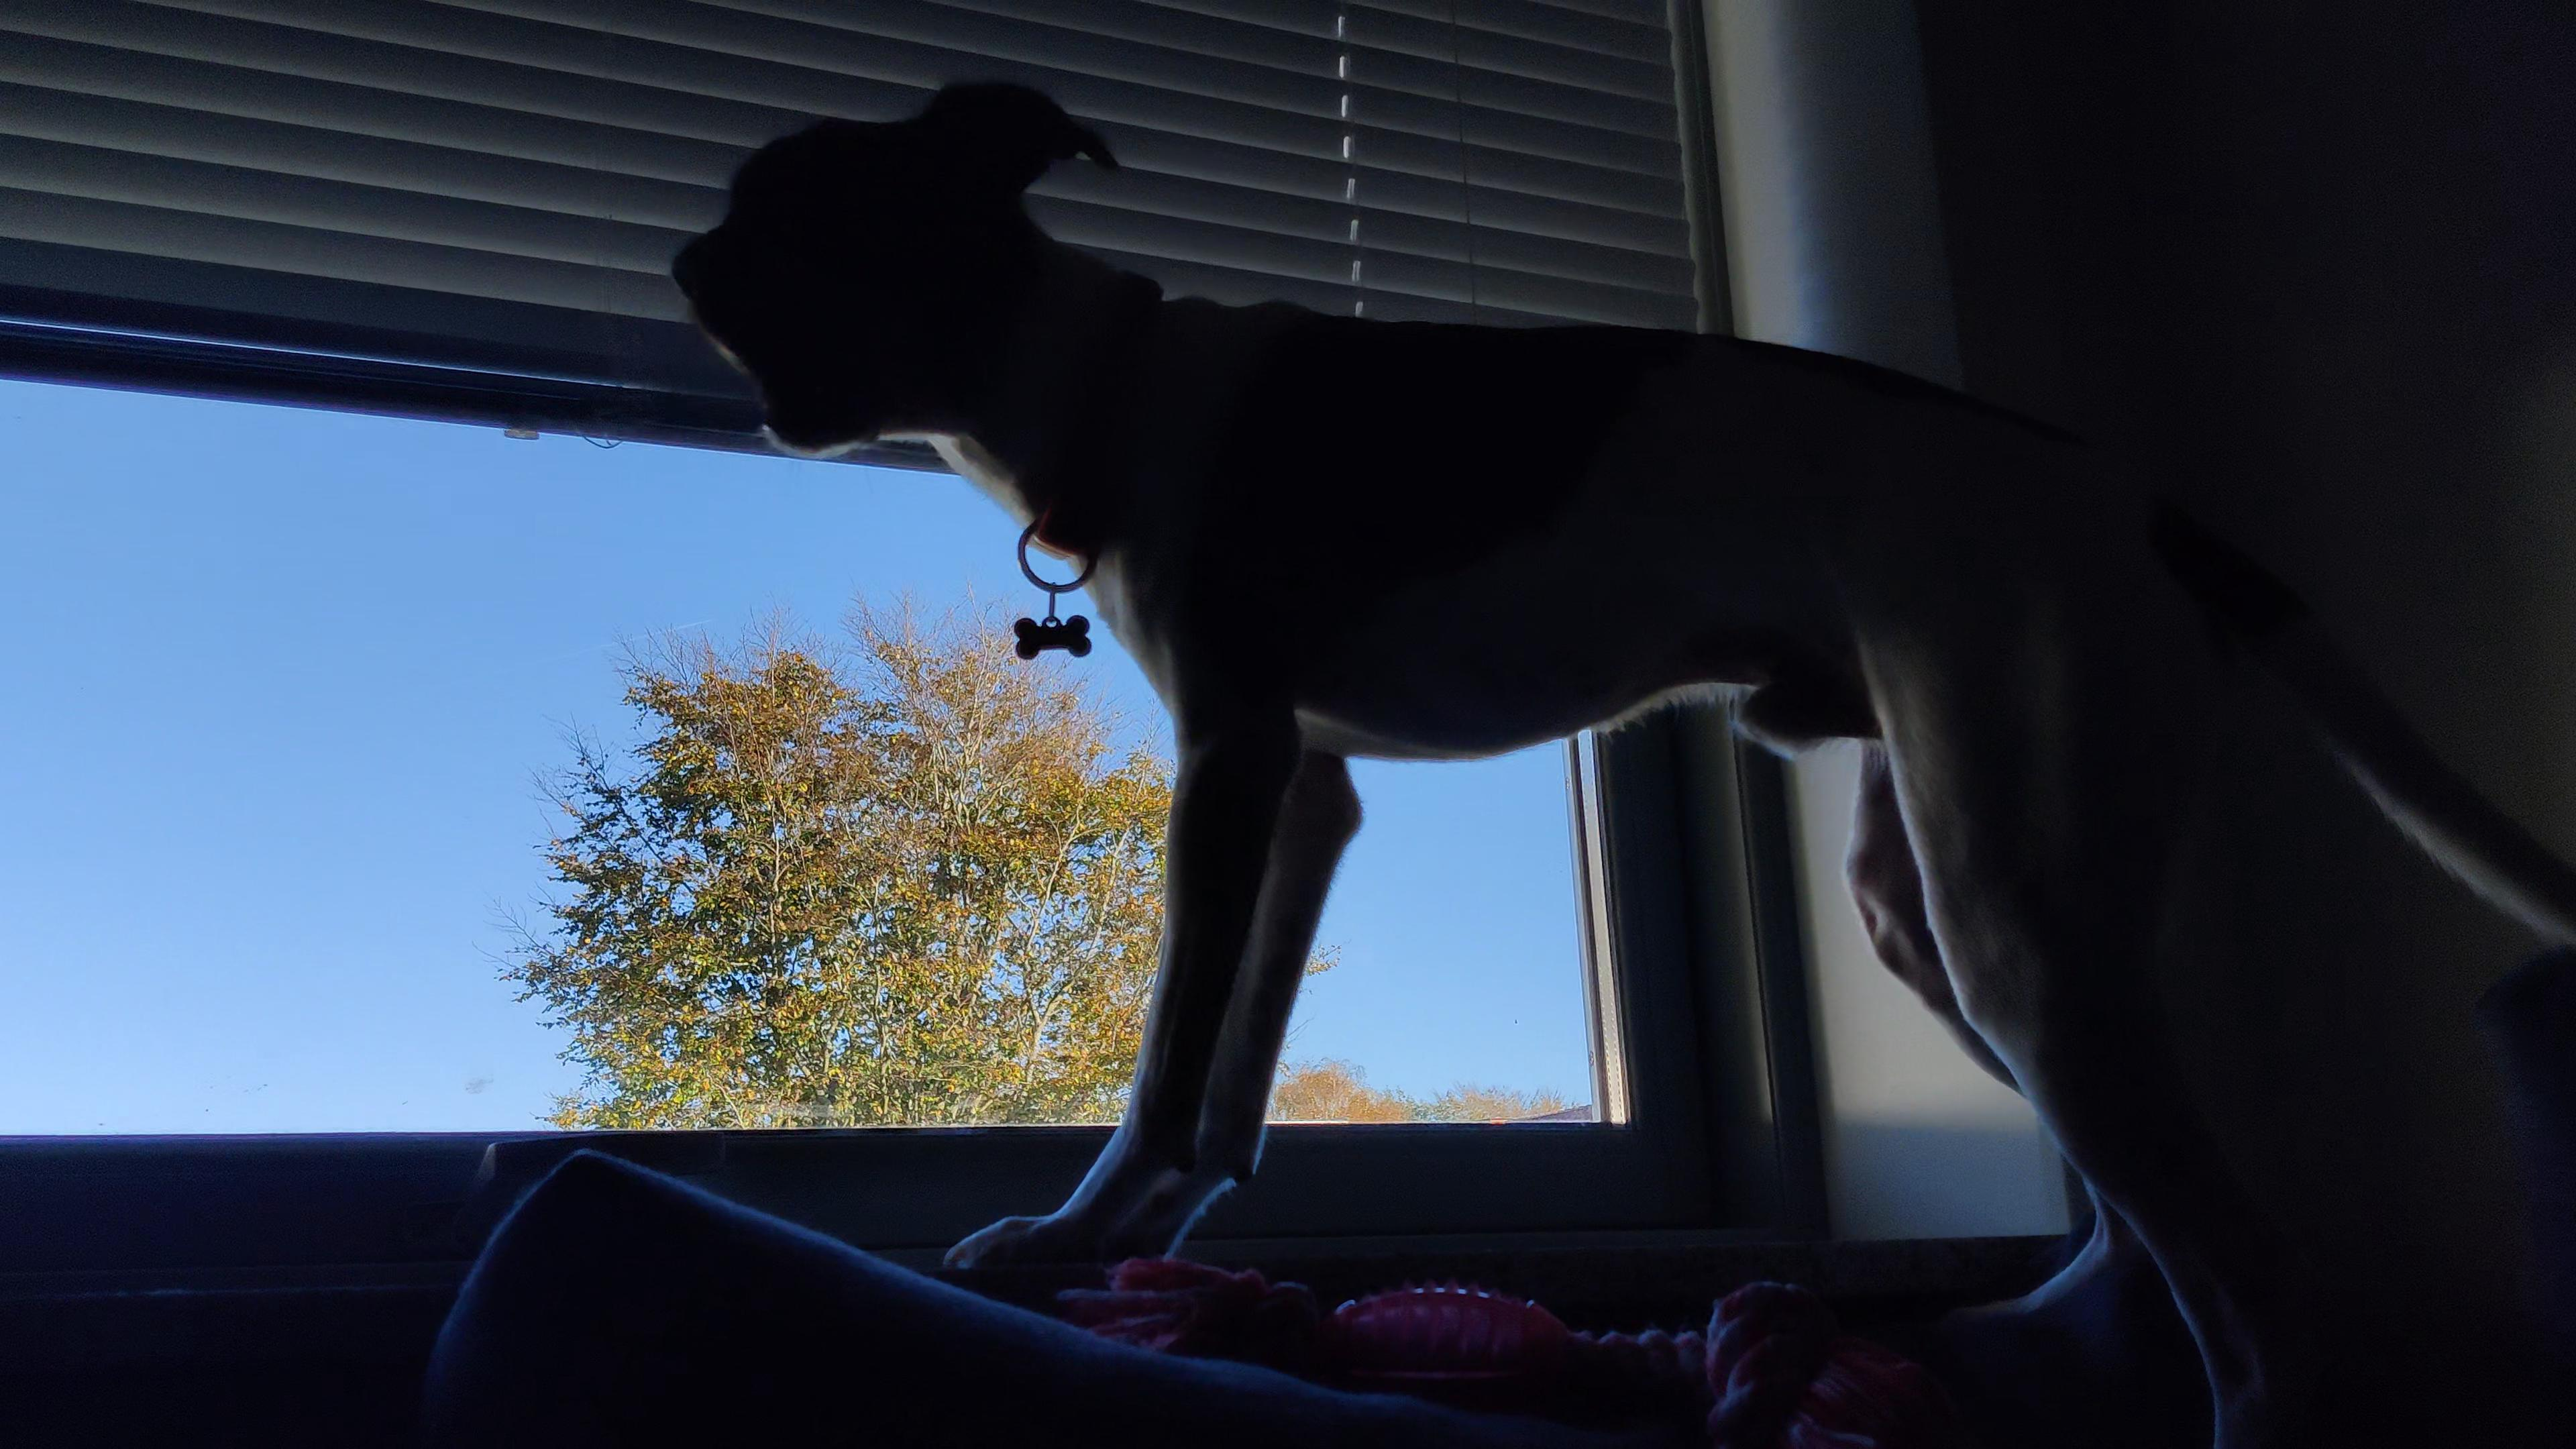Dog: (667, 65, 2576, 1449)
